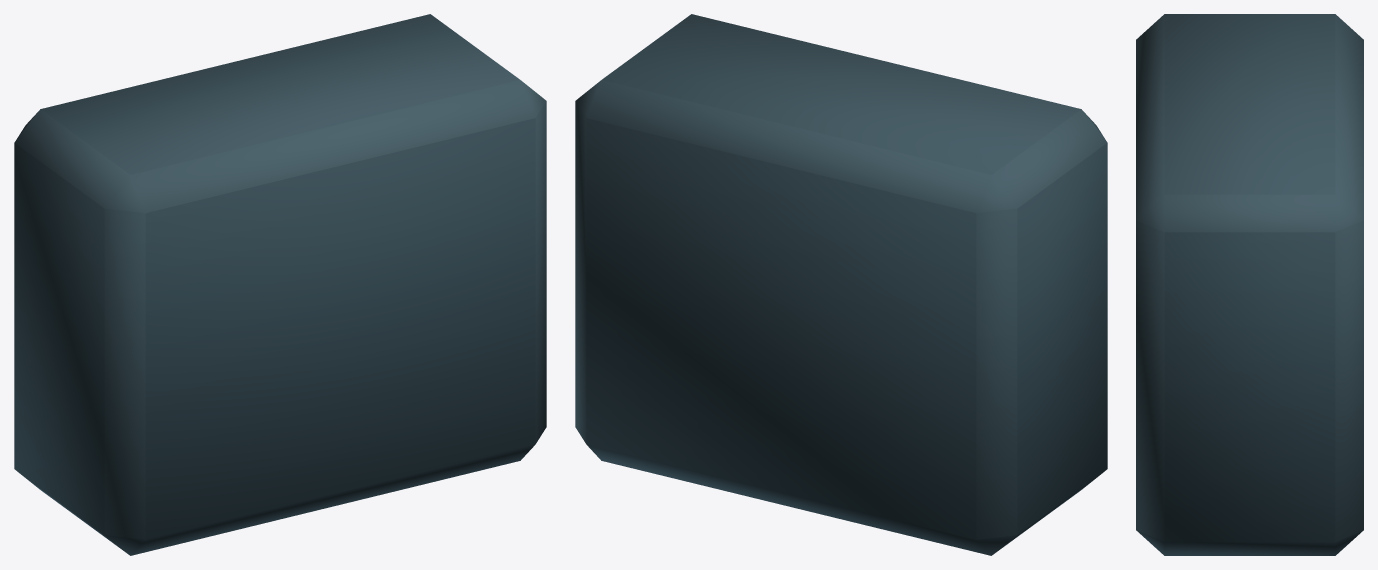
File: cube_02_hue_3.fbx
The picture shows the model from 3 angles, left to right: view 1: azimuth 30°, elevation 25°; view 2: azimuth 150°, elevation 25°; view 3: azimuth 270°, elevation 25°; orthographic projection. The views are drawn at different scales.
Parts seen in each view (by area): view 1: cube_02_hue_3; view 2: cube_02_hue_3; view 3: cube_02_hue_3.
Boxes of the visible parts, x1,y1,x2,y2 form: cube_02_hue_3: (14,14,546,555); cube_02_hue_3: (575,14,1107,555); cube_02_hue_3: (1136,14,1363,555).
Bounding box in the file's own units: 53.12 × 43.75 × 25.
